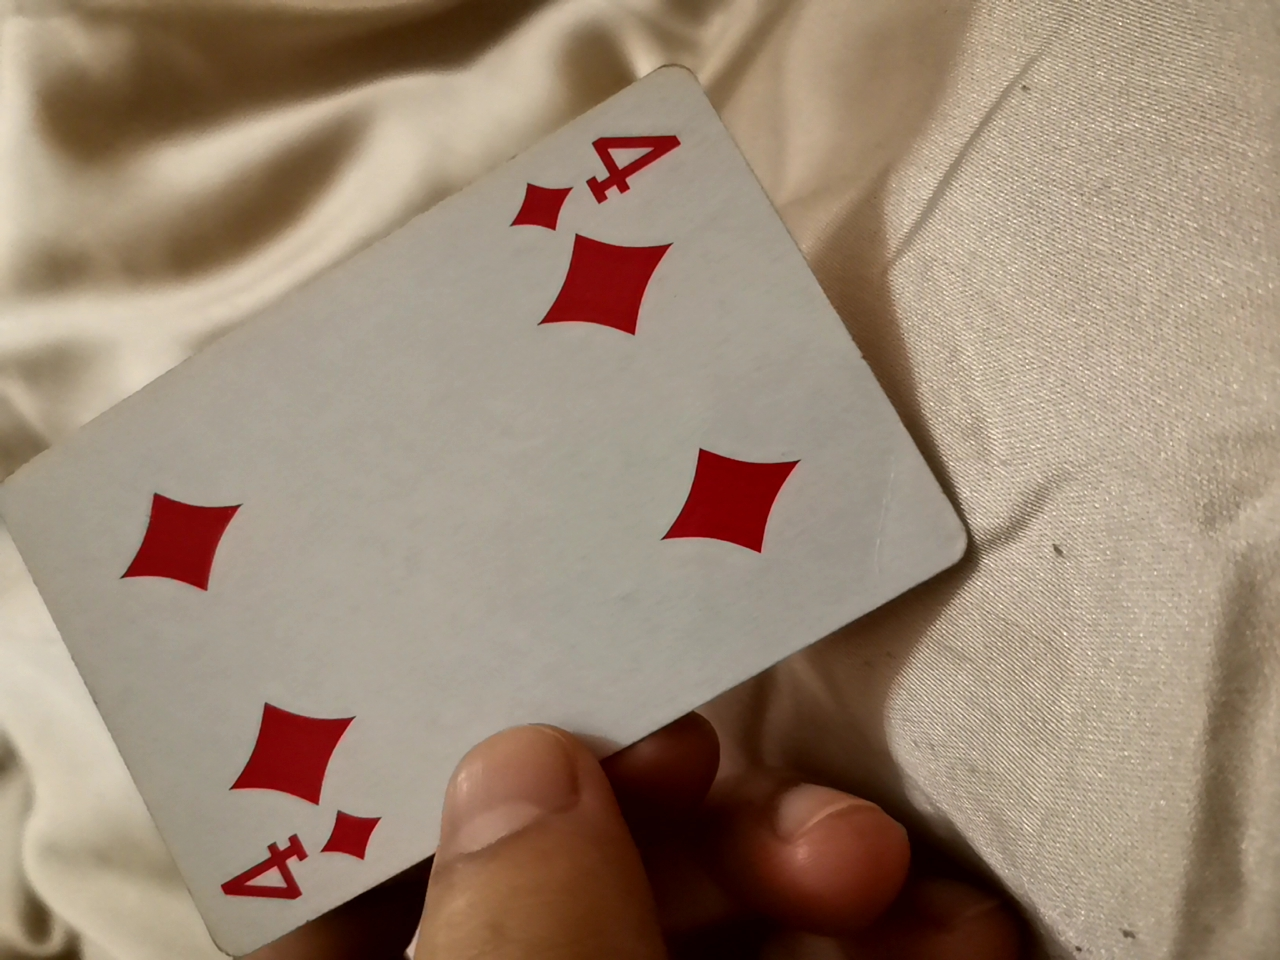fk 4: (7, 40, 923, 952)
